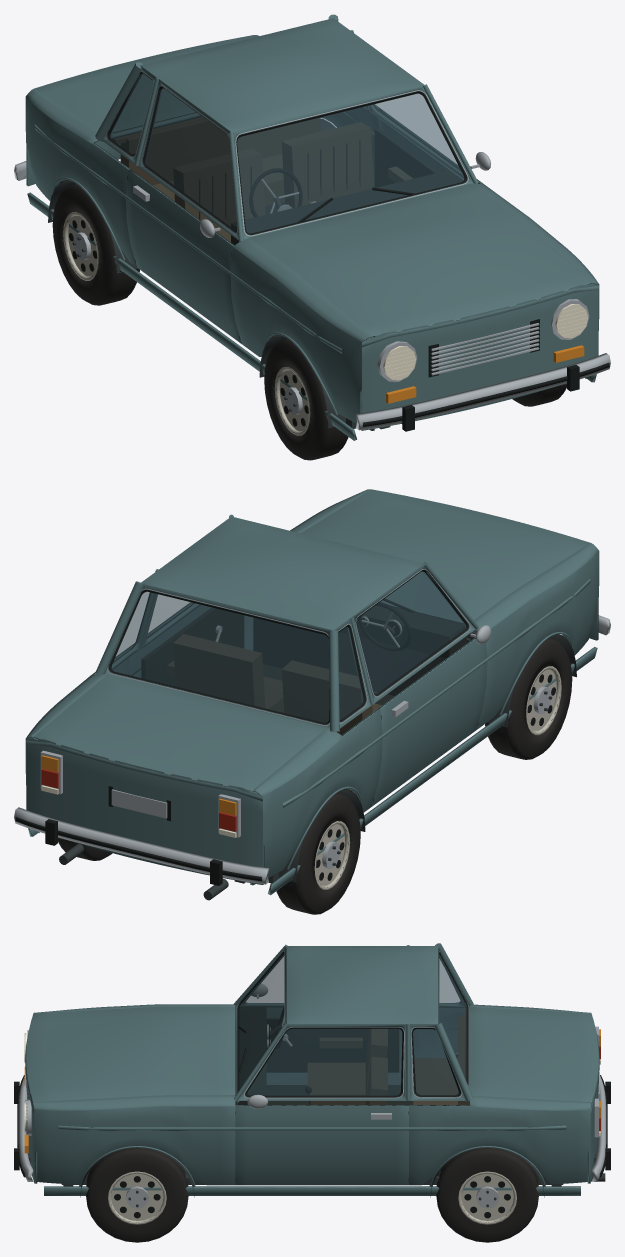
The model's file is compact-candidate.glb.
The picture shows the model from 3 angles, top to bottom: view 1: azimuth 30°, elevation 25°; view 2: azimuth 150°, elevation 25°; view 3: azimuth 270°, elevation 25°; orthographic projection. The views are drawn at different scales.
Visible parts, largest first — view 1: panel_hood, glass_Front, panel_Roof, panel_FrontValance, panel_BodyDoorL, panel_FrontWingL, glass_BodyDoorL, panel_RearWingL, Interior Rook seat back 1, panel_Boot, Interior Rook rear backrest, Interior Rook seat back -1 (+31 smaller); view 2: panel_Boot, panel_hood, glass_Rear, panel_Roof, panel_RearValance, panel_BodyDoorL, panel_RearWingL, panel_FrontWingL, glass_BodyDoorL, Structure firewall, Interior Rook seat back 1, Tire_Rook_FL (+31 smaller); view 3: panel_hood, panel_BodyDoorR, panel_Roof, panel_FrontWingR, panel_Boot, panel_RearWingR, glass_BodyDoorR, Tire_Rook_FR, Tire_Rook_RR, panel_BodyDoorLInnerCard, panel_SillR, glass_Front (+32 smaller).
Part boxes in pixels (x1=…): panel_hood: x1=249, y1=184, x2=590, y2=338; glass_Front: x1=237, y1=93, x2=464, y2=233; panel_Roof: x1=140, y1=18, x2=424, y2=131; panel_FrontValance: x1=360, y1=284, x2=598, y2=430; panel_BodyDoorL: x1=126, y1=169, x2=241, y2=343; panel_FrontWingL: x1=230, y1=247, x2=374, y2=430; glass_BodyDoorL: x1=145, y1=88, x2=237, y2=230; panel_RearWingL: x1=25, y1=96, x2=136, y2=266; Interior Rook seat back 1: x1=281, y1=122, x2=373, y2=207; panel_Boot: x1=34, y1=35, x2=256, y2=132; Interior Rook rear backrest: x1=120, y1=117, x2=320, y2=185; Interior Rook seat back -1: x1=173, y1=148, x2=265, y2=228; panel_Boot: x1=34, y1=674, x2=326, y2=792; panel_hood: x1=301, y1=489, x2=590, y2=622; glass_Rear: x1=111, y1=591, x2=329, y2=722; panel_Roof: x1=140, y1=516, x2=423, y2=630; panel_RearValance: x1=26, y1=738, x2=264, y2=884; panel_BodyDoorL: x1=371, y1=637, x2=487, y2=806; panel_RearWingL: x1=250, y1=709, x2=382, y2=885; panel_FrontWingL: x1=476, y1=551, x2=599, y2=730; glass_BodyDoorL: x1=356, y1=571, x2=465, y2=693; Structure firewall: x1=253, y1=617, x2=470, y2=695; Interior Rook seat back 1: x1=173, y1=634, x2=265, y2=708; Tire_Rook_FL: x1=485, y1=638, x2=572, y2=759; panel_hood: x1=26, y1=1006, x2=235, y2=1104; panel_BodyDoorR: x1=235, y1=1105, x2=408, y2=1185; panel_Roof: x1=286, y1=946, x2=437, y2=1024; panel_FrontWingR: x1=34, y1=1106, x2=235, y2=1185; panel_Boot: x1=470, y1=1007, x2=598, y2=1104; panel_RearWingR: x1=409, y1=1105, x2=590, y2=1185; glass_BodyDoorR: x1=247, y1=1028, x2=402, y2=1095; Tire_Rook_FR: x1=86, y1=1147, x2=188, y2=1242; Tire_Rook_RR: x1=436, y1=1147, x2=538, y2=1242; panel_BodyDoorLInnerCard: x1=266, y1=1018, x2=399, y2=1072; panel_SillR: x1=44, y1=1186, x2=580, y2=1195; glass_Front: x1=239, y1=954, x2=284, y2=1088.
Size of the model in its own units: 1.7 by 1.49 by 3.72.
